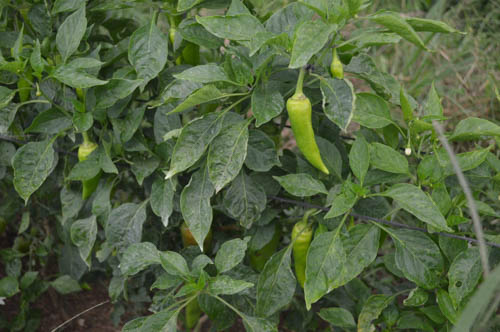ChiliPepper: (284, 97, 330, 175), (73, 144, 102, 196), (290, 223, 311, 289)
